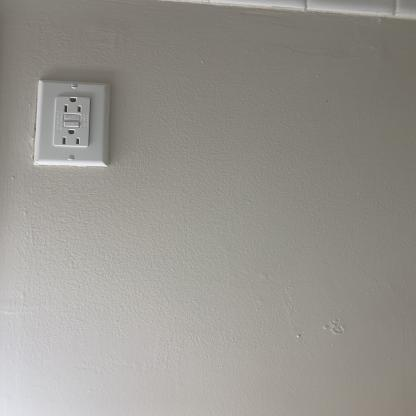OUTLET: (35, 82, 109, 167)
